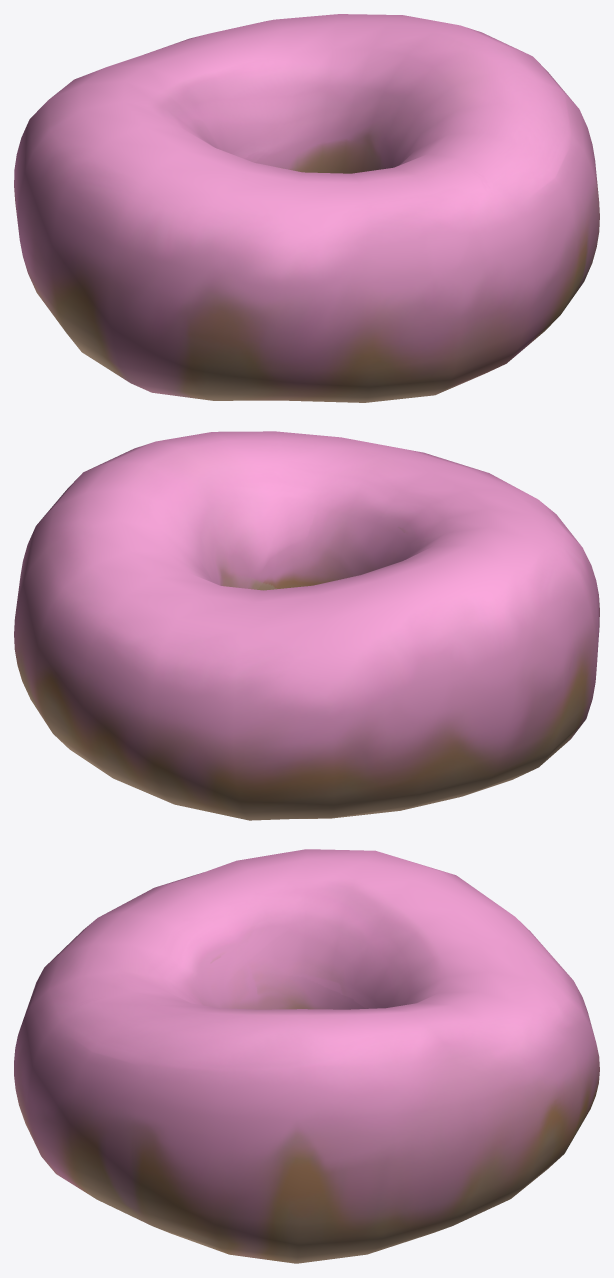
File: Doughnut.fbx
3 views of the same model, one above another, from view 1: azimuth 30°, elevation 25°; view 2: azimuth 150°, elevation 25°; view 3: azimuth 270°, elevation 25° (orthographic).
Visible parts, largest first — view 1: Torus; view 2: Torus; view 3: Torus.
Part boxes in pixels (x1,y1,x2,y2): Torus: [14, 14, 599, 402]; Torus: [14, 431, 599, 820]; Torus: [14, 849, 599, 1263].
Bounding box in the file's own units: 262 × 117 × 263.
Materials: 1 (1 with a texture image).
